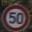Speed Limit -50-: (0, 1, 31, 31)
